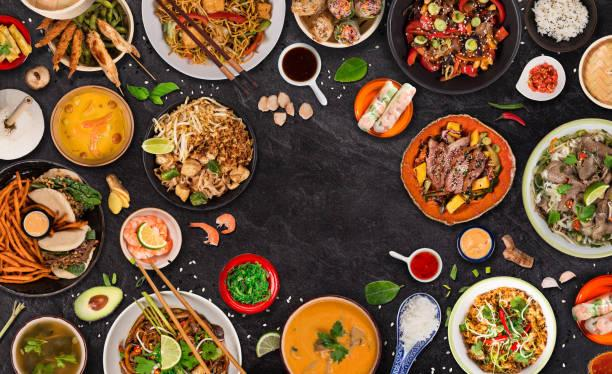Braised Crucian Carp: (0, 159, 105, 295), (386, 0, 521, 95), (142, 96, 255, 208), (400, 114, 514, 224), (521, 118, 610, 257), (137, 0, 288, 80), (102, 292, 242, 374), (447, 276, 559, 372), (280, 295, 381, 374), (49, 85, 134, 167)
